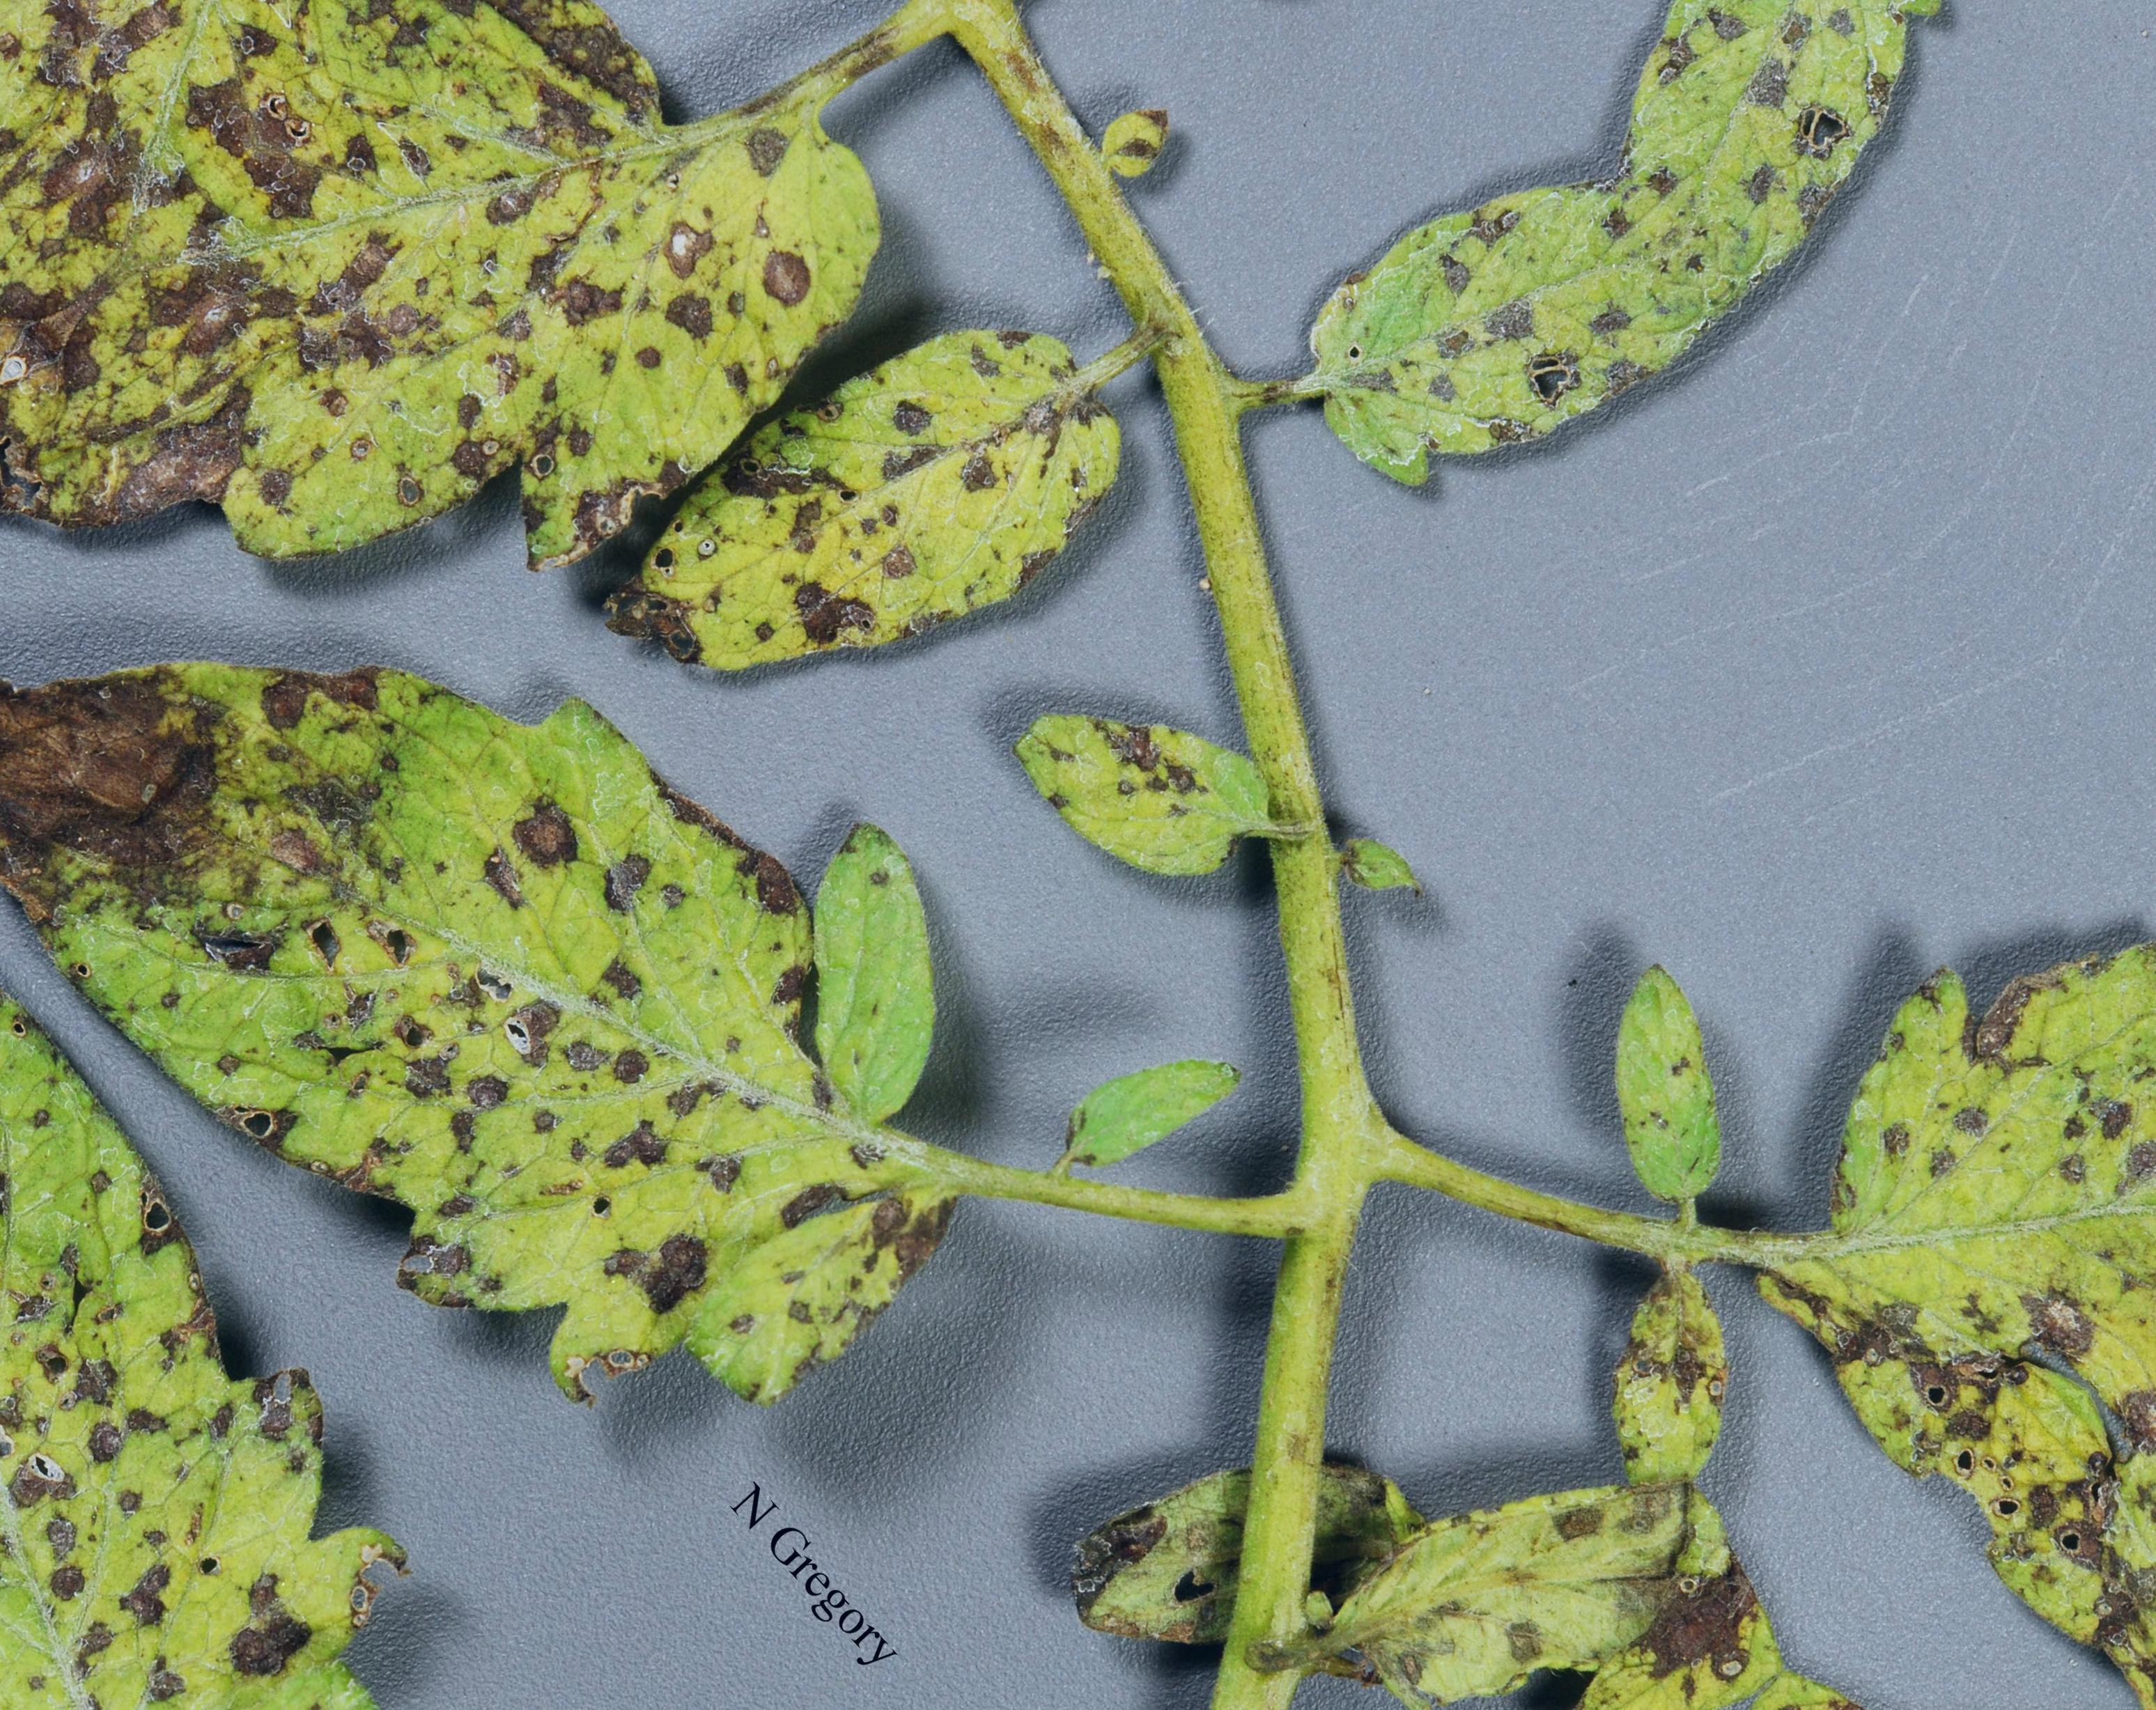Tomato Septoria leaf spot: (0, 287, 1099, 1584), (0, 0, 1004, 926), (1554, 719, 2156, 1573), (520, 205, 1165, 837), (1204, 47, 1787, 632), (1263, 1341, 1851, 1710), (922, 595, 1316, 992)
